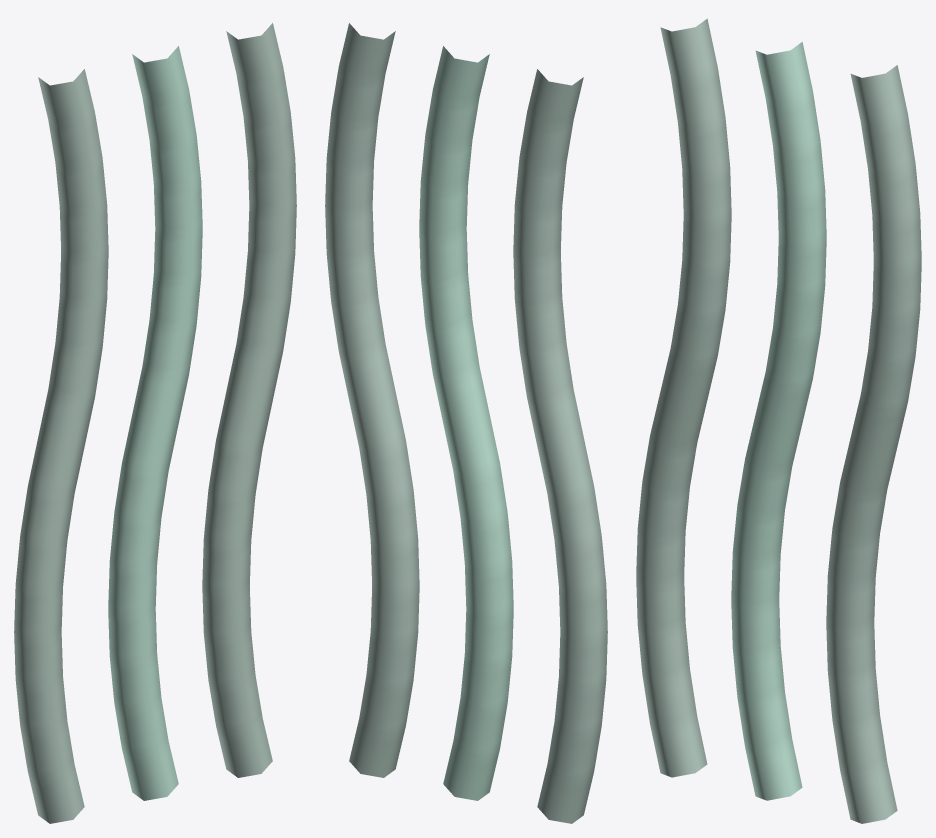
The model's file is decor_6_mint.glb.
3 renders of one model, left to right at view 1: azimuth 30°, elevation 25°; view 2: azimuth 150°, elevation 25°; view 3: azimuth 330°, elevation 25°, orthographic.
Visible parts, largest first — view 1: decor_6_mint; view 2: decor_6_mint; view 3: decor_6_mint.
Boxes of the visible parts, x1,y1,x2,y2 form: decor_6_mint: [14, 23, 296, 823]; decor_6_mint: [325, 23, 607, 823]; decor_6_mint: [636, 18, 921, 823].
Size of the model in its own units: 4.61 by 12.14 by 0.7.
